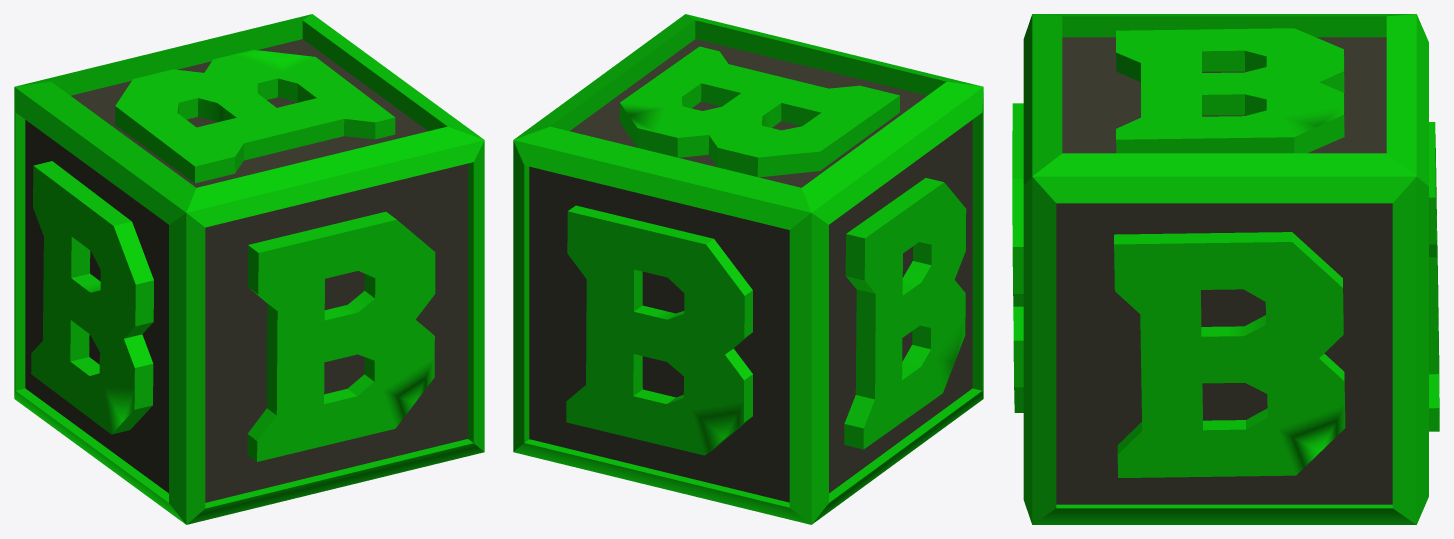
File: LetterBlockB.obj
3 views of the same model, side by side, from view 1: azimuth 30°, elevation 25°; view 2: azimuth 150°, elevation 25°; view 3: azimuth 270°, elevation 25° (orthographic). The views are drawn at different scales.
Visible parts, largest first — view 1: pCube1_Untitled, pPlane3_Untitled.006, pPlane2_Untitled.005, pPlane5_Untitled.004; view 2: pCube1_Untitled, pPlane1_Untitled.001, pPlane2_Untitled.005, pPlane5_Untitled.004; view 3: pCube1_Untitled, pPlane4_Untitled.003, pPlane5_Untitled.004, pPlane3_Untitled.006, pPlane1_Untitled.001.
Part boxes in pixels (box(x1,y1,x2,y2)): pCube1_Untitled: box(14, 14, 484, 524); pPlane3_Untitled.006: box(247, 211, 435, 461); pPlane2_Untitled.005: box(31, 161, 153, 434); pPlane5_Untitled.004: box(115, 49, 395, 183); pCube1_Untitled: box(513, 14, 983, 524); pPlane1_Untitled.001: box(566, 205, 752, 455); pPlane2_Untitled.005: box(844, 178, 966, 449); pPlane5_Untitled.004: box(619, 46, 899, 177); pCube1_Untitled: box(1023, 14, 1428, 524); pPlane4_Untitled.003: box(1114, 232, 1345, 477); pPlane5_Untitled.004: box(1116, 28, 1344, 153); pPlane3_Untitled.006: box(1012, 103, 1023, 412); pPlane1_Untitled.001: box(1429, 122, 1439, 431).
Bounding box in the file's own units: 1.05 × 1.02 × 1.04.
